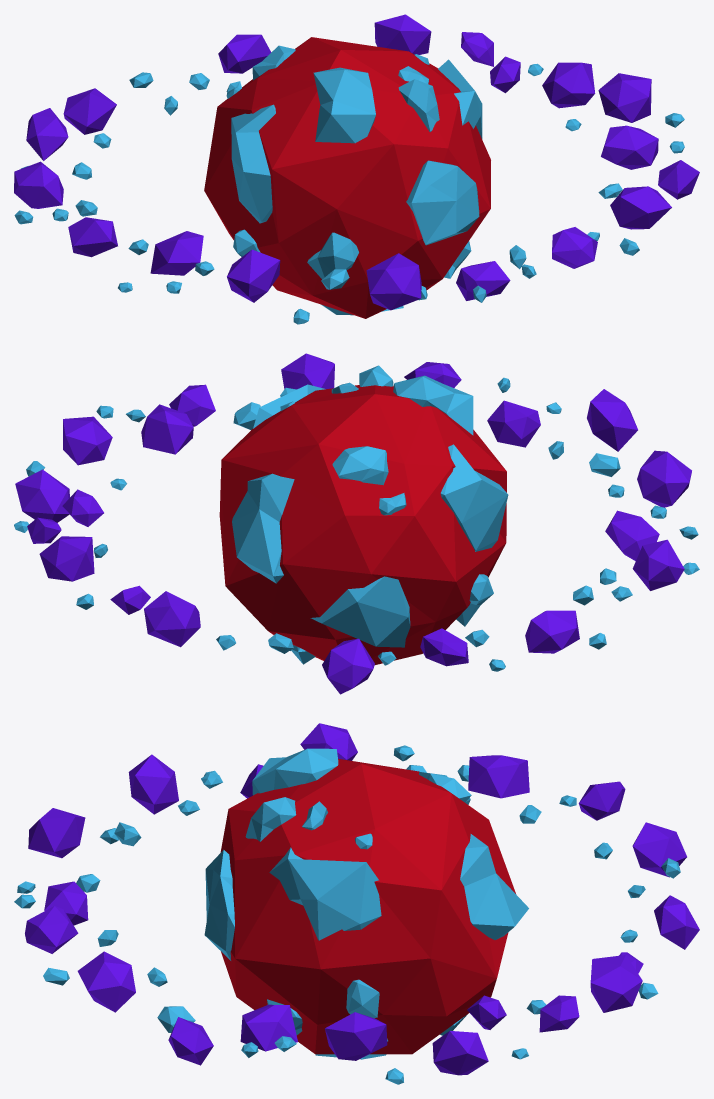
Rendered from Planet.fbx.
The picture shows the model from 3 angles, top to bottom: view 1: azimuth 30°, elevation 25°; view 2: azimuth 150°, elevation 25°; view 3: azimuth 270°, elevation 25°; orthographic projection. The views are drawn at different scales.
Visible parts, largest first — view 1: Planet, Stones; view 2: Planet, Stones; view 3: Planet, Stones.
Boxes of the visible parts, x1,y1,x2,y2 form: Planet: (204,37,490,318); Stones: (14,14,699,324); Planet: (219,365,508,664); Stones: (14,353,699,694); Planet: (204,748,528,1059); Stones: (14,723,699,1084).
Size of the model in its own units: 2373 by 986 by 2177.
